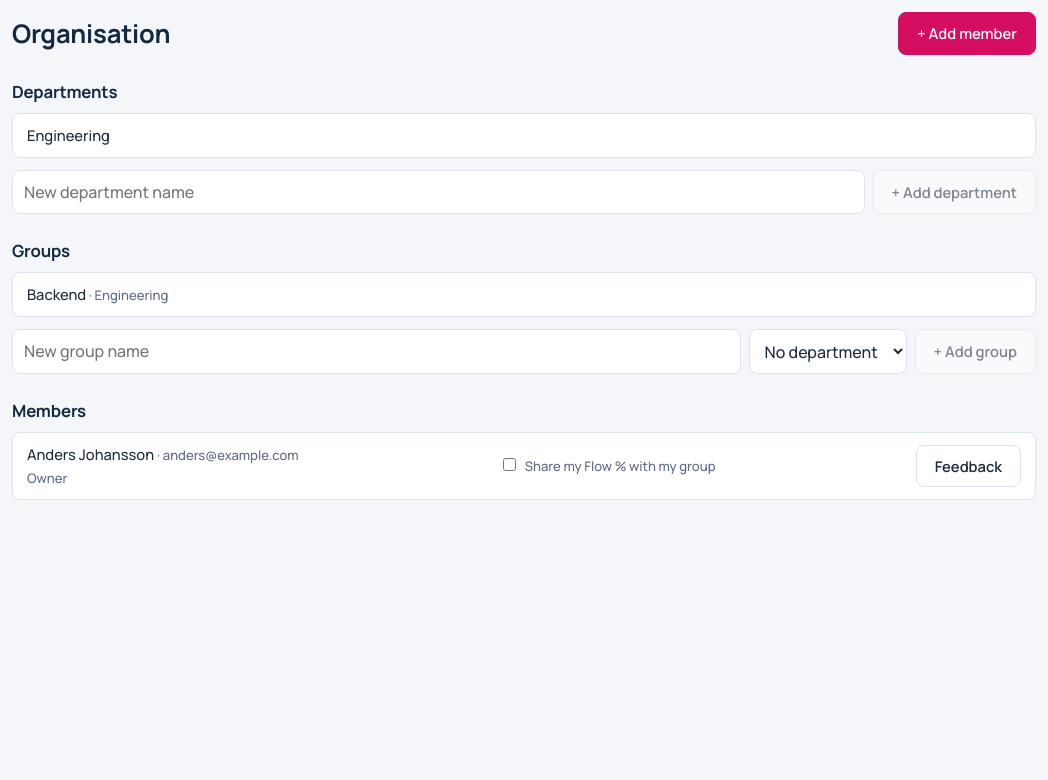
OrganisationPage › with an Organisation account › shows an error message if creating a group fails
Expected: the text "Engineering" is shown, [27,124,110,147]
Type "Frontend" into the field with placeholder "New group name" at (376, 352), box [12,329,741,374]
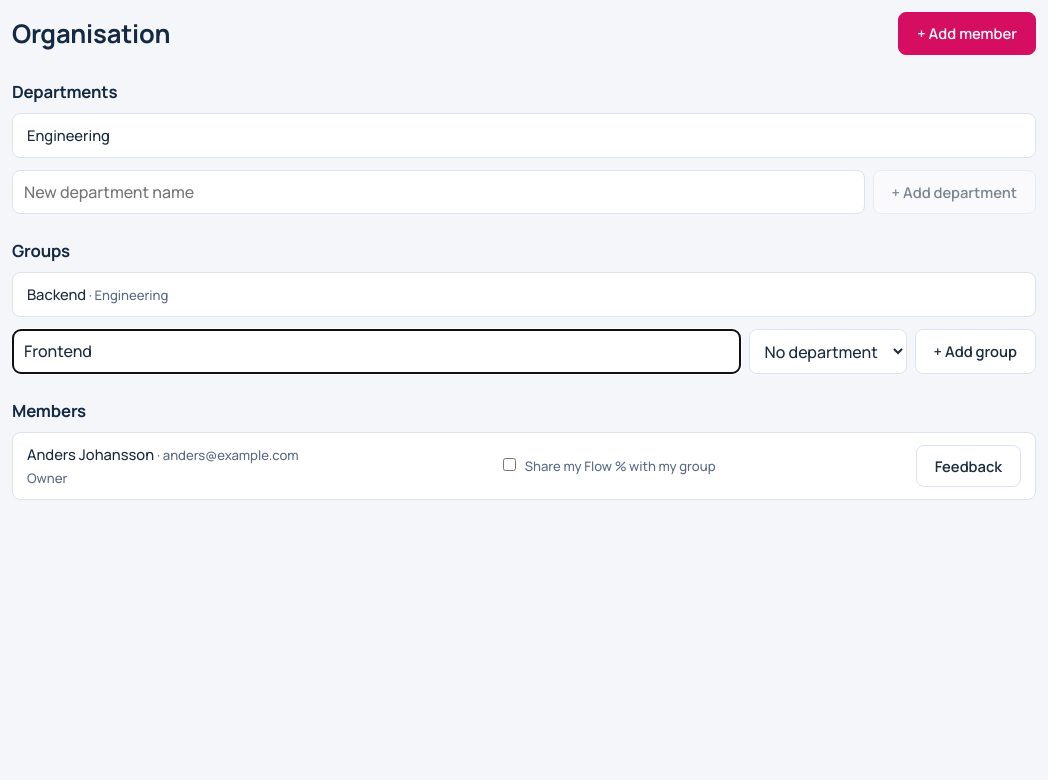
Click the button "+ Add group" at (975, 352), box [915,329,1036,374]
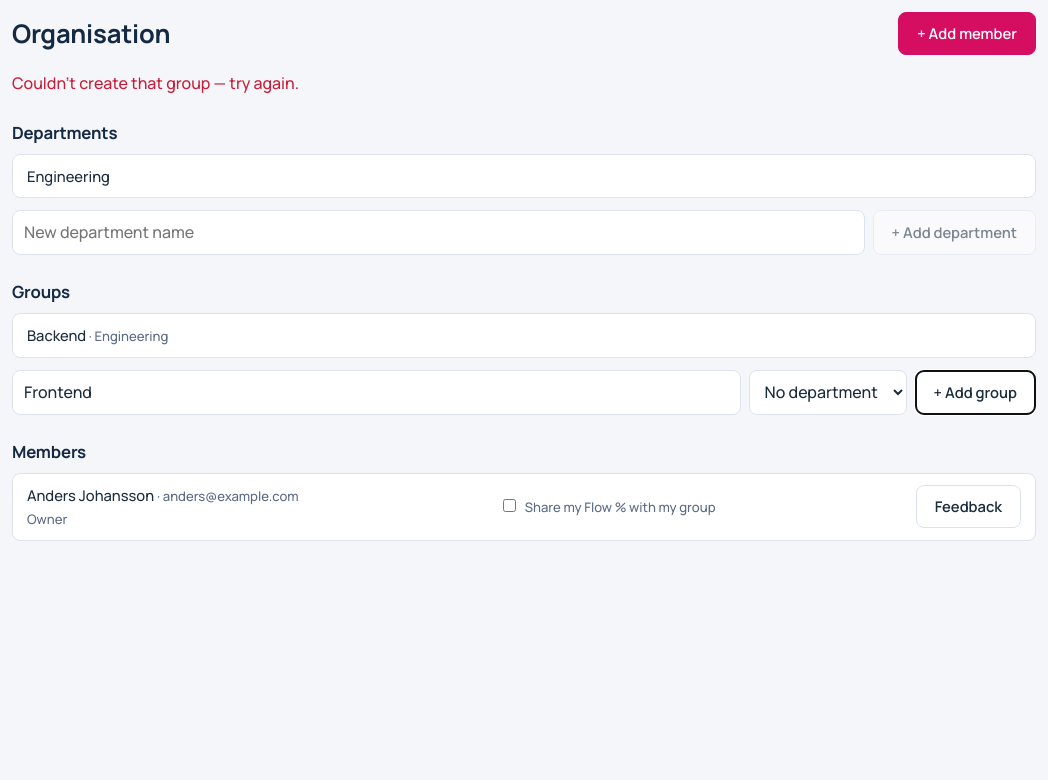
Now the text "Couldn't create that group — try again." is shown, box [12,72,299,94]
